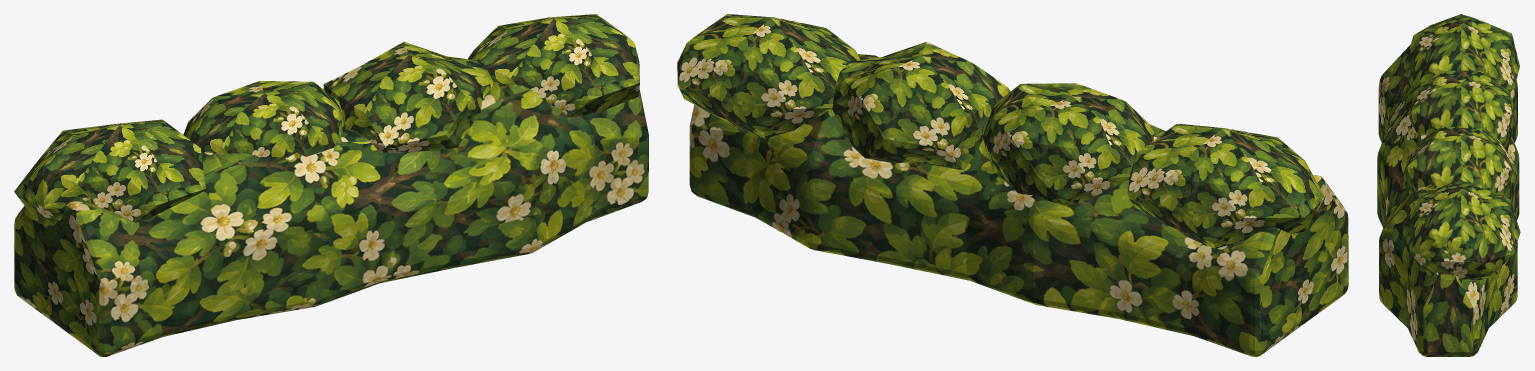
The model's file is hawthorn_end.glb.
3 views of the same model, side by side, from view 1: azimuth 30°, elevation 25°; view 2: azimuth 150°, elevation 25°; view 3: azimuth 270°, elevation 25° (orthographic). The views are drawn at different scales.
Visible parts, largest first — view 1: Painted flowering hawthorn; view 2: Painted flowering hawthorn; view 3: Painted flowering hawthorn.
Boxes of the visible parts, x1,y1,x2,y2 form: Painted flowering hawthorn: (14,14,648,356); Painted flowering hawthorn: (677,14,1348,356); Painted flowering hawthorn: (1377,14,1520,356).
Size of the model in its own units: 7.54 by 2.25 by 1.97.
2 materials, 2 textured.
